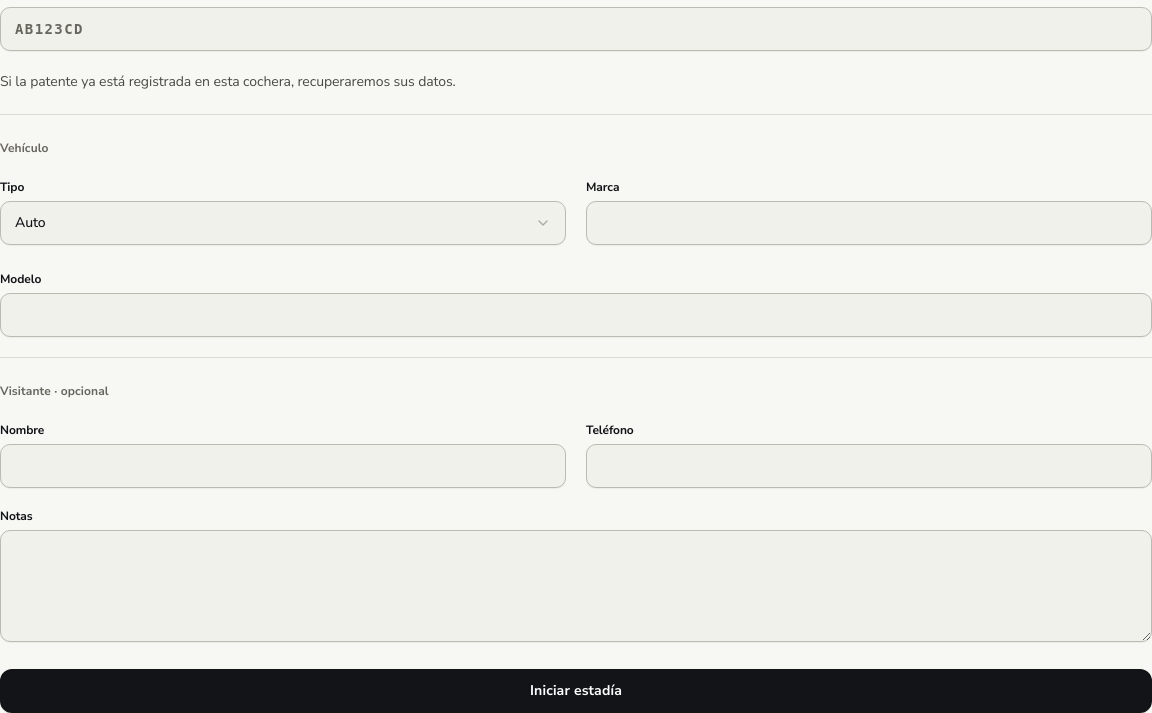
CheckInPanel › localizes validation and controls in Spanish
The image size is (1152, 713).
(page scrolled)
Expected: the field labelled "Patente" is shown, [0,7,1151,51]
Click the button "Iniciar estadía". click: [576, 691]
box: [0,669,1151,712]
(page scrolled)
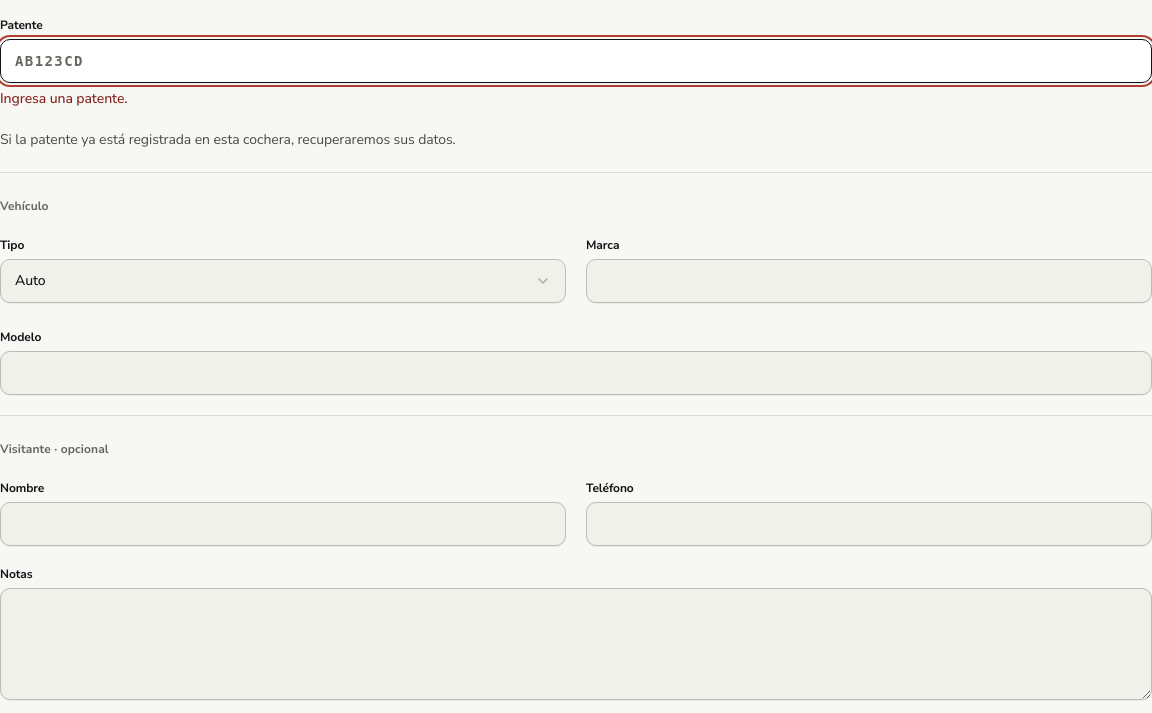
Now the text "Ingresa una patente." is shown, box [0,89,128,108]
